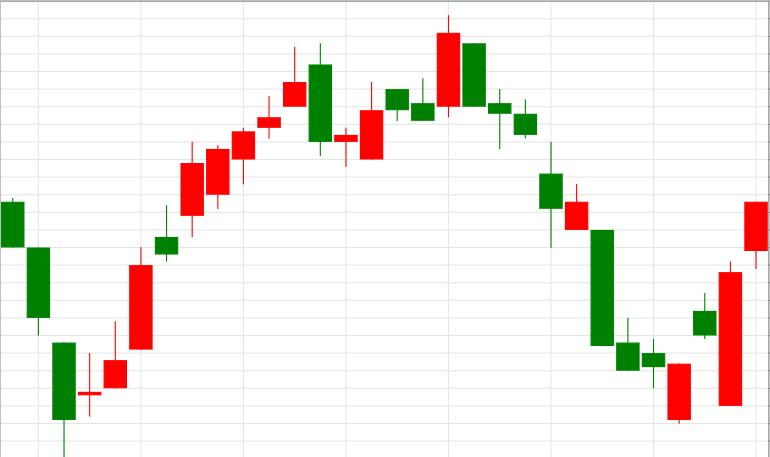bearish_engulfing_fall: (77, 44, 332, 417)
shooting_star_fall: (78, 44, 306, 416)
